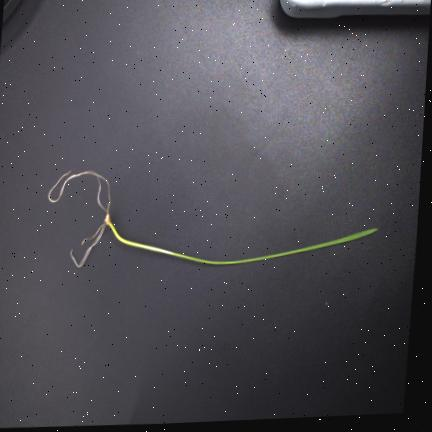leaf: (172, 228, 376, 264)
root1: (47, 170, 111, 213)
root2: (60, 170, 107, 213)
root3: (70, 220, 104, 267)
root4: (81, 223, 106, 245)
root5: (79, 223, 107, 266)
stem: (104, 213, 172, 255)
